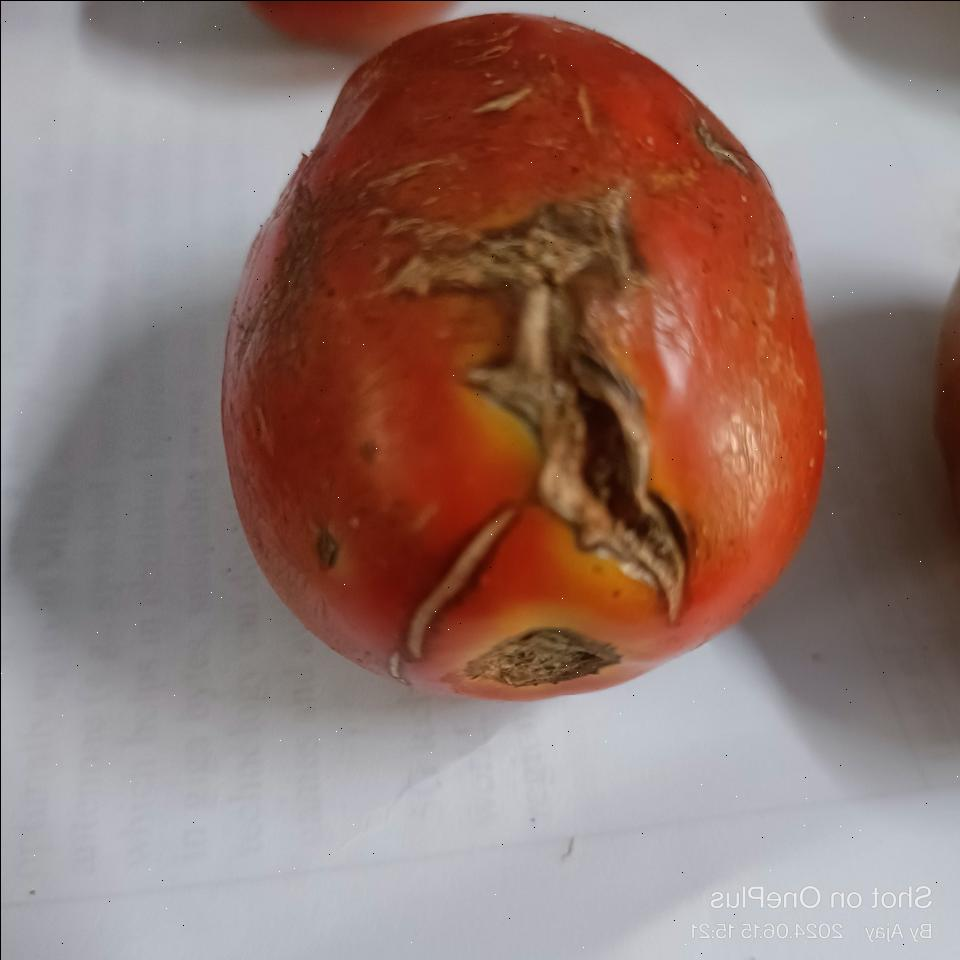Cracking: (347, 131, 707, 630)
